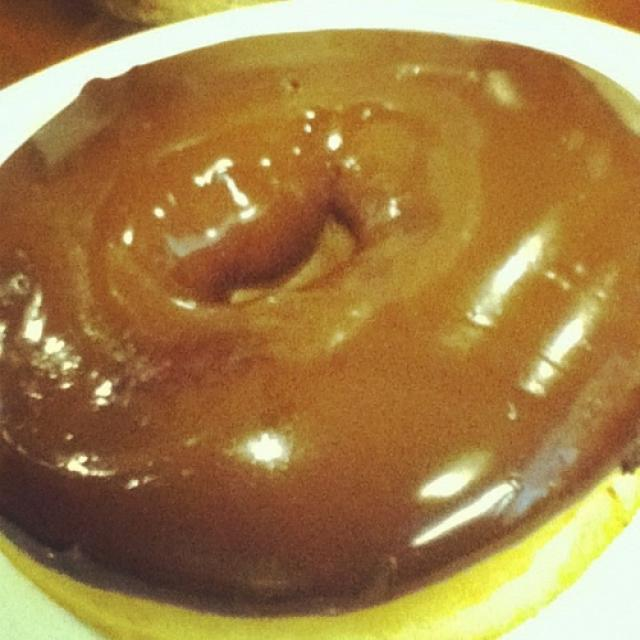炸货点心: (5, 18, 620, 616)
